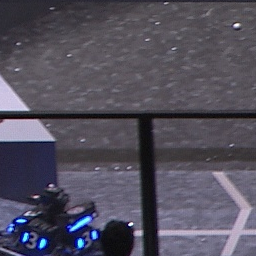Blue: (20, 230, 47, 251), (74, 230, 99, 248)
Robot: (2, 182, 106, 256)
